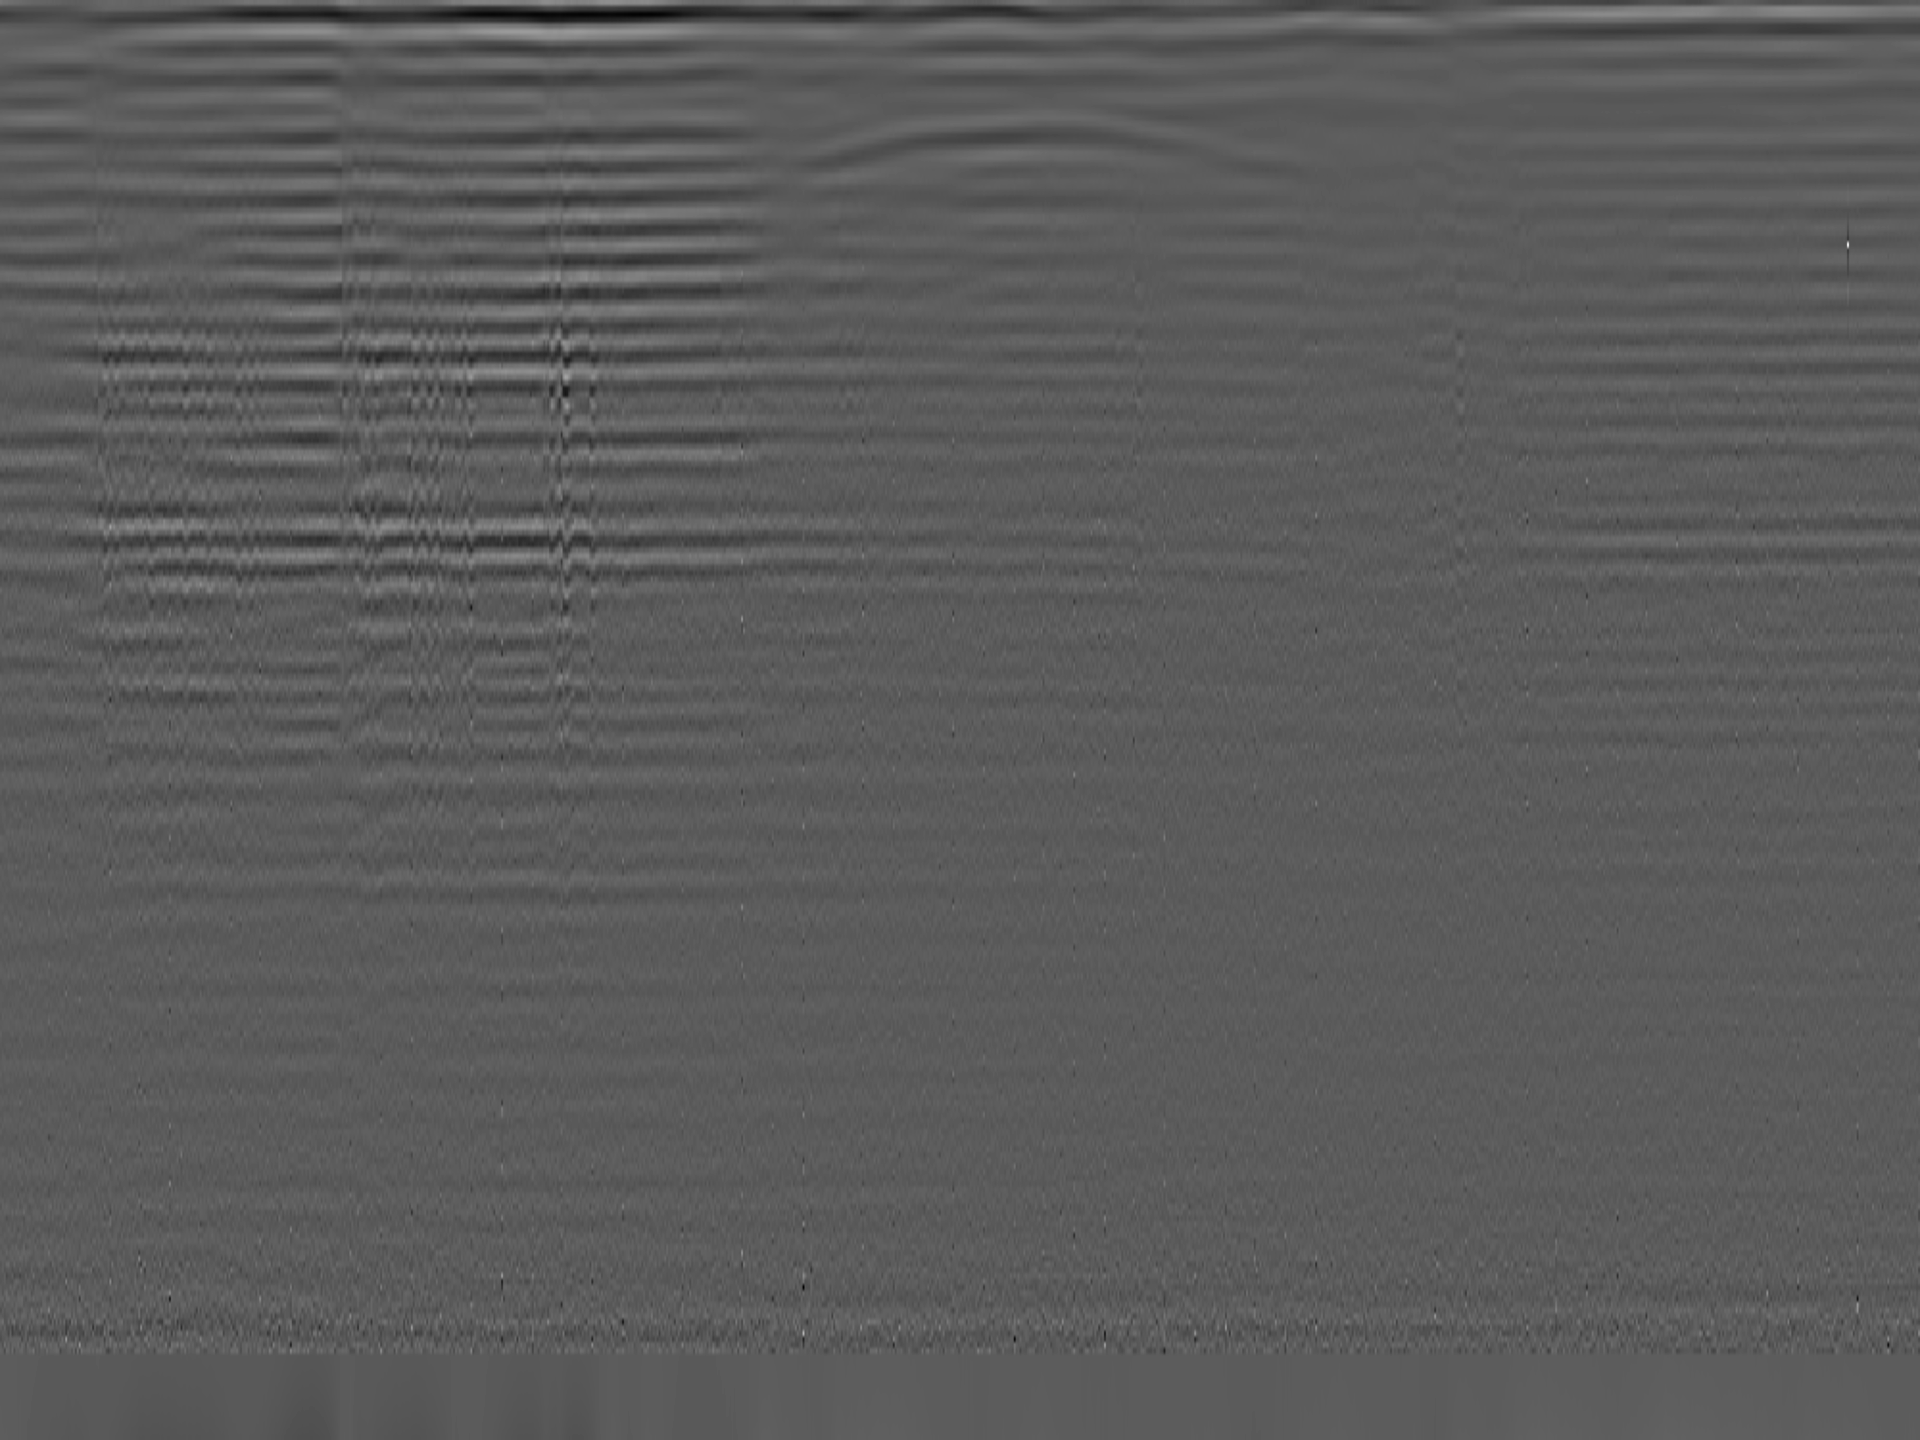Tunnel: (789, 112, 1315, 175)
